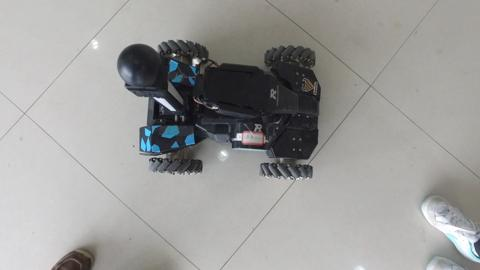chariot: (123, 29, 328, 183)
